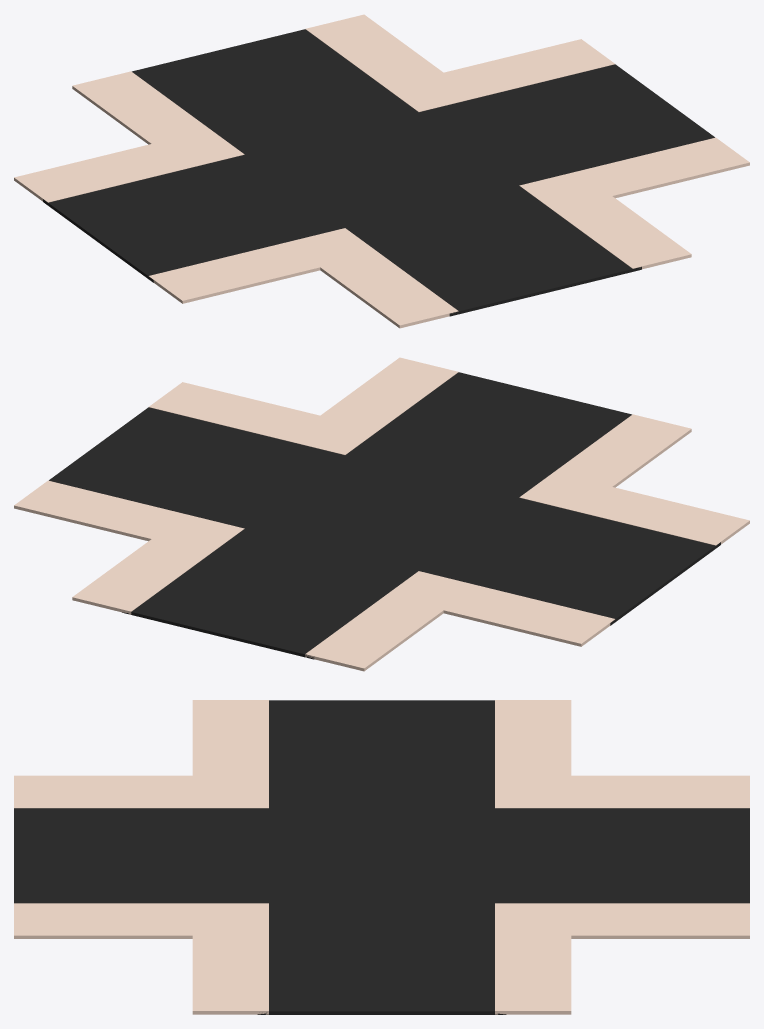
Rendered from 4-way Road.fbx.
3 views of the same model, one above another, from view 1: azimuth 30°, elevation 25°; view 2: azimuth 150°, elevation 25°; view 3: azimuth 270°, elevation 25° (orthographic). The views are drawn at different scales.
Parts seen in each view (by area): view 1: 4-way road, 4-way road.001; view 2: 4-way road, 4-way road.001; view 3: 4-way road, 4-way road.001.
Part boxes in pixels (x1,y1,x2,y2): 4-way road: (43,29,714,316); 4-way road.001: (14,14,749,328); 4-way road: (49,372,720,659); 4-way road.001: (14,357,749,671); 4-way road: (14,700,749,1014); 4-way road.001: (14,700,749,1014).
Bounding box in the file's own units: 385 × 2.15 × 385.
